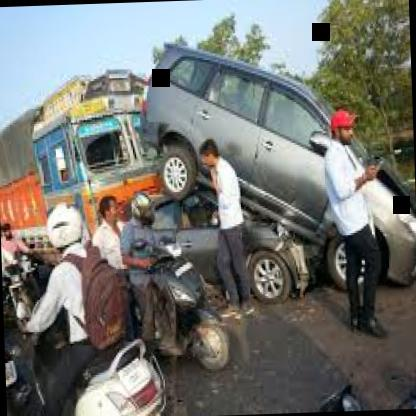accident: (11, 30, 402, 322)
